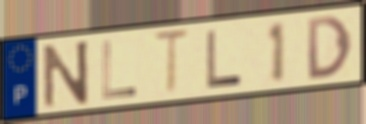1: (266, 18, 286, 86)
D: (305, 13, 355, 82)
L: (204, 28, 245, 90), (99, 39, 139, 102)
N: (41, 38, 92, 111)
T: (151, 27, 193, 99)
